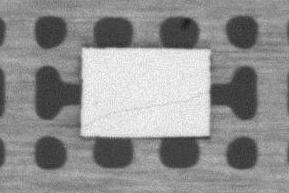DIE_CRACK: (82, 91, 205, 127)
